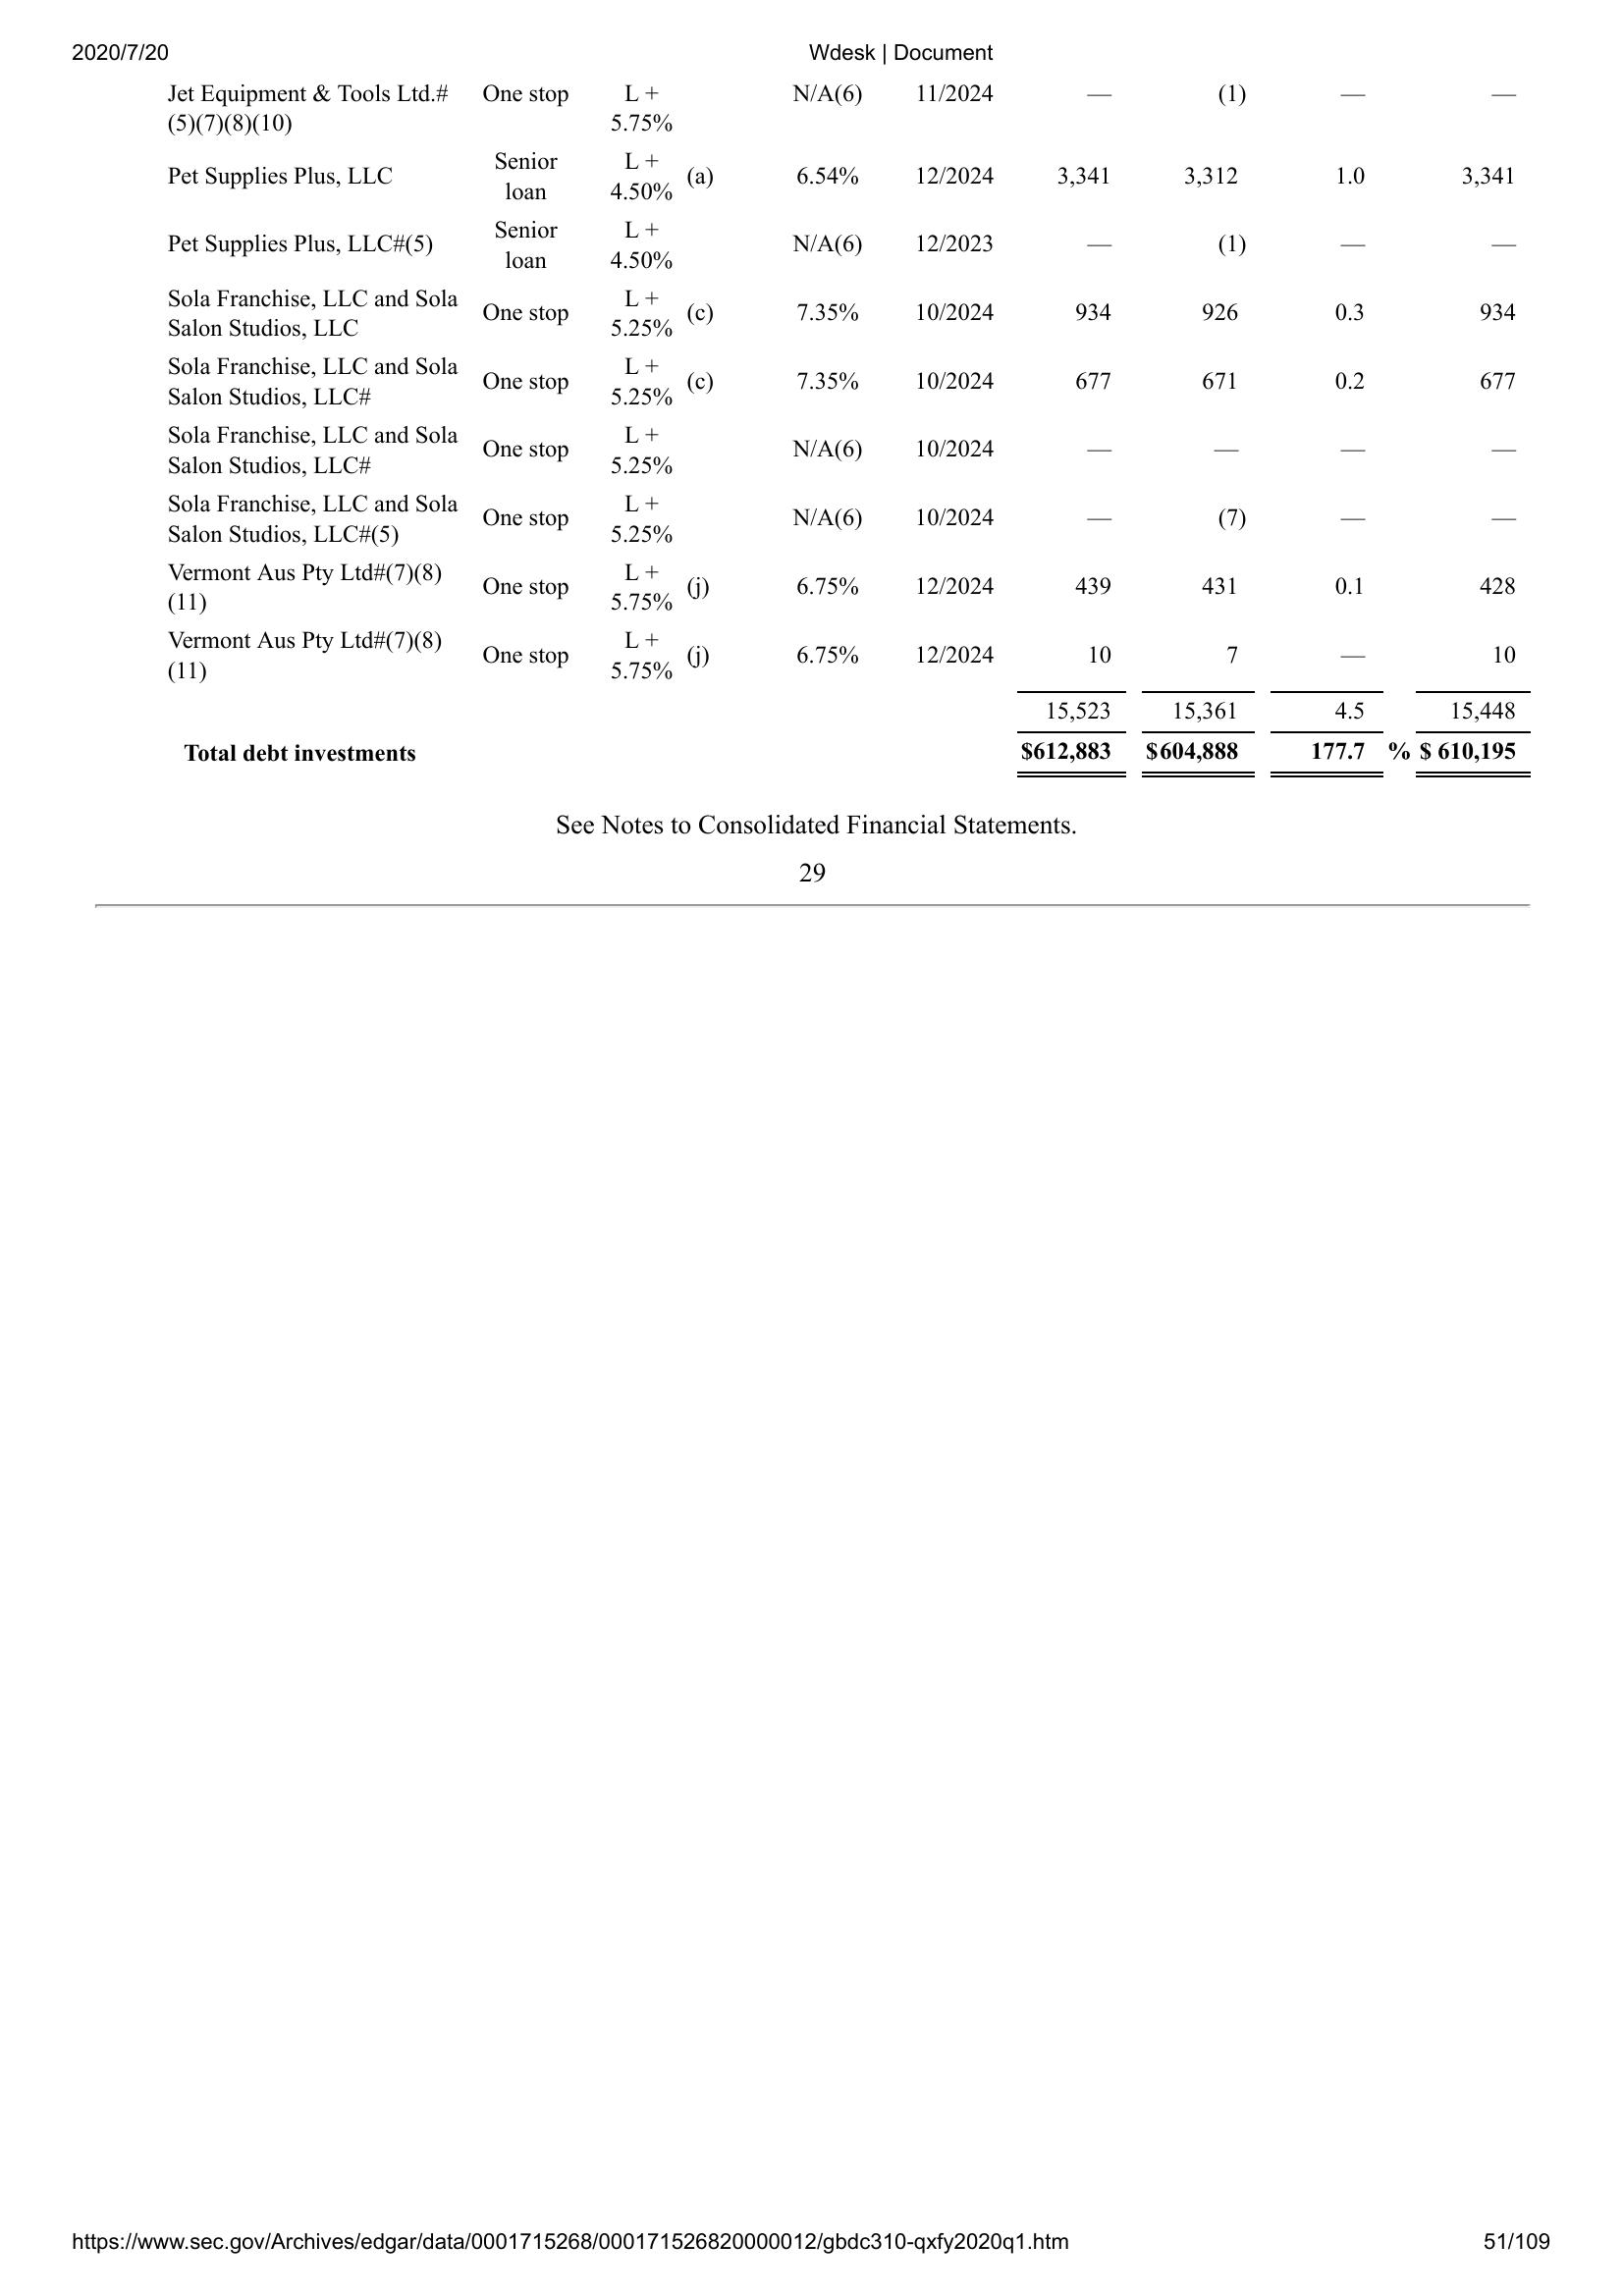table: (155, 65, 1535, 786)
